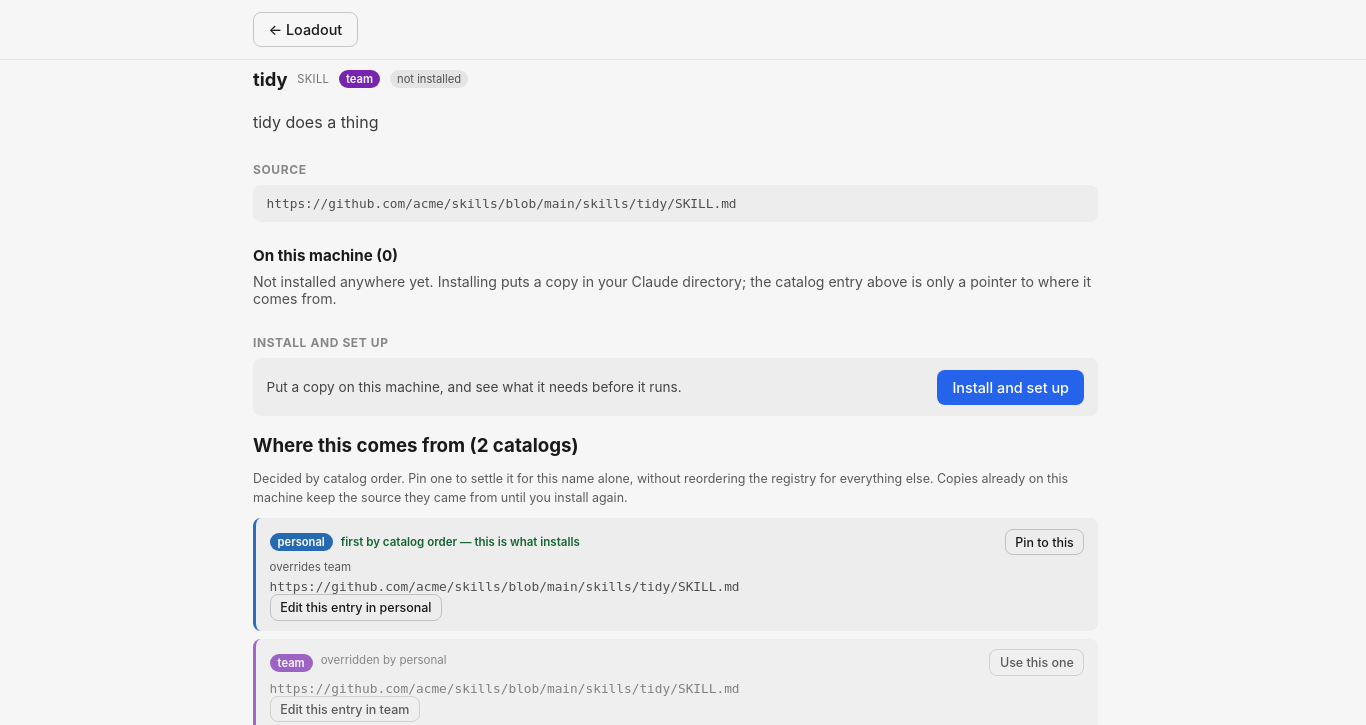
UI-30: pinning › can pin without touching the files, and says nothing was overwritten
This screenshot has width=1366, height=725.
Click the button "Use this one" at (1037, 663), box 989,649 -> 1084,676
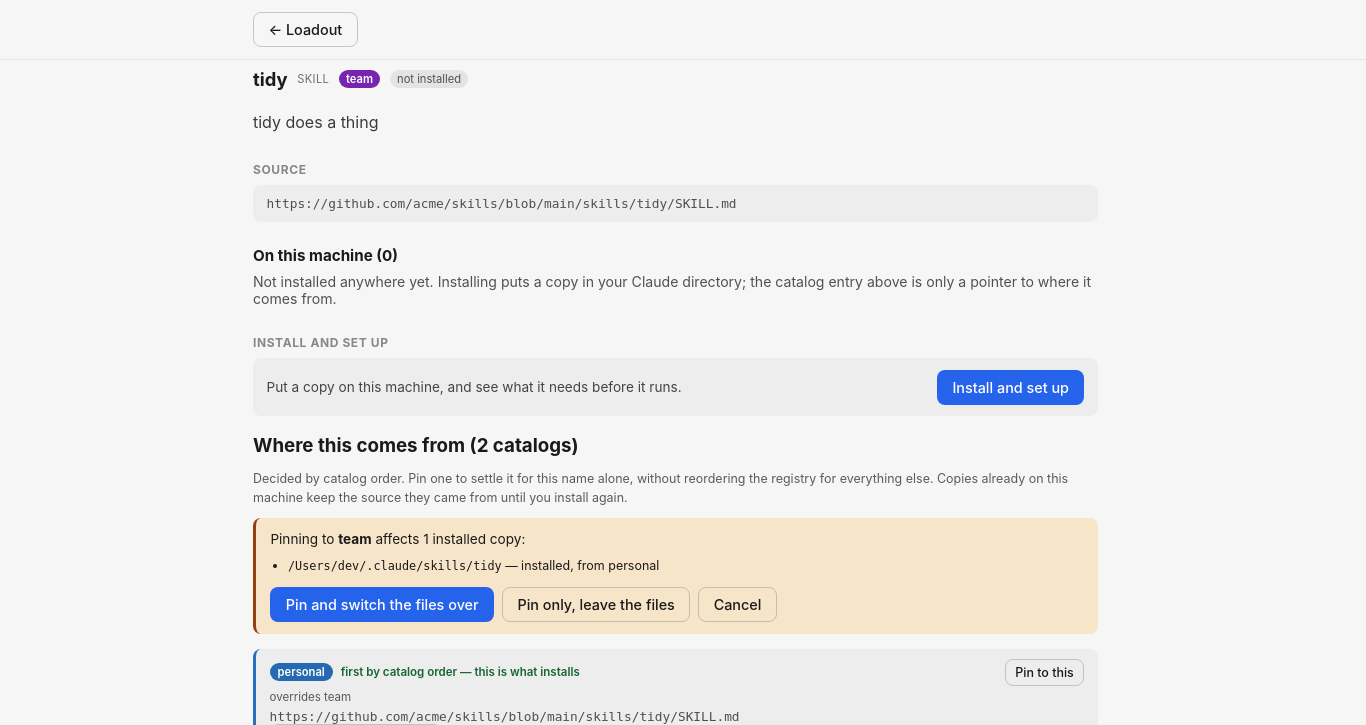
Click the button "Pin only, leave the files" at (596, 605), box 502,587 -> 690,622
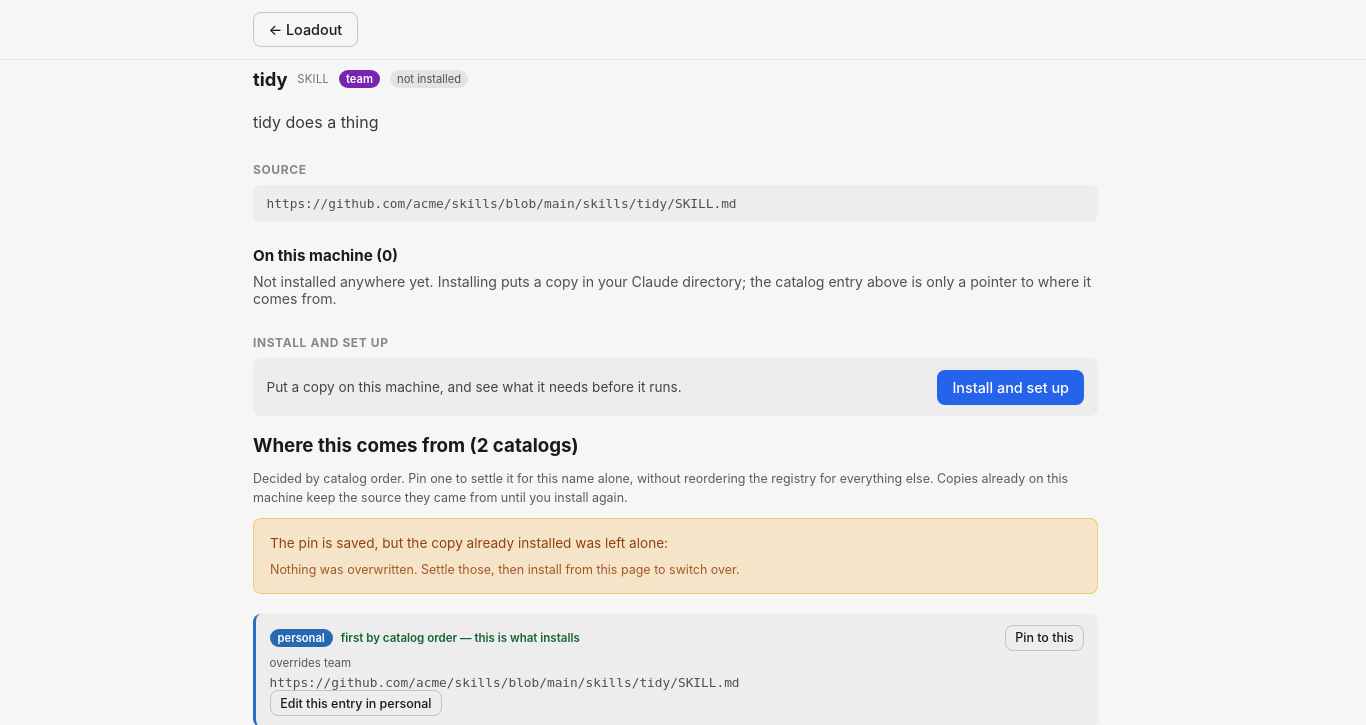
expect the message with class "status-banner--warning" shows "Nothing was overwritten.": met, box 270,562 -> 740,577
